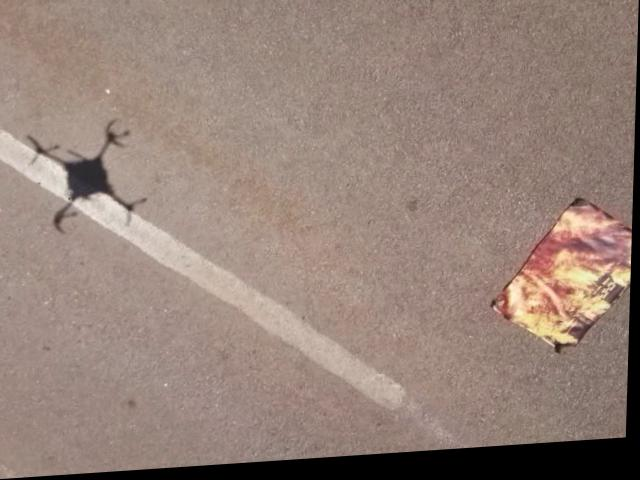fire-poster: (491, 201, 635, 368)
